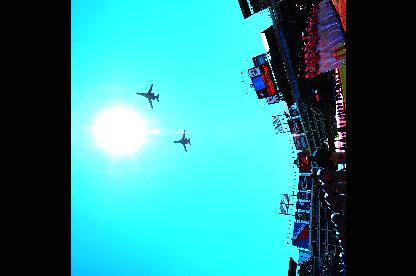AV8B: (133, 85, 159, 110), (171, 131, 190, 153)
